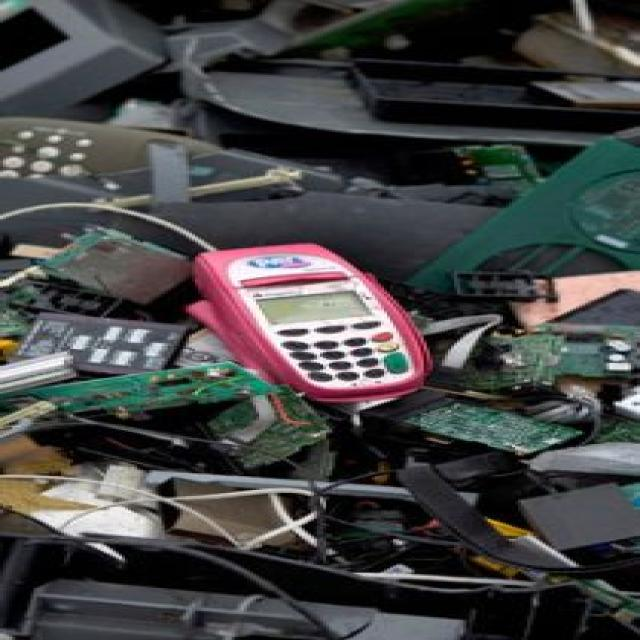electronic: (156, 233, 479, 448)
